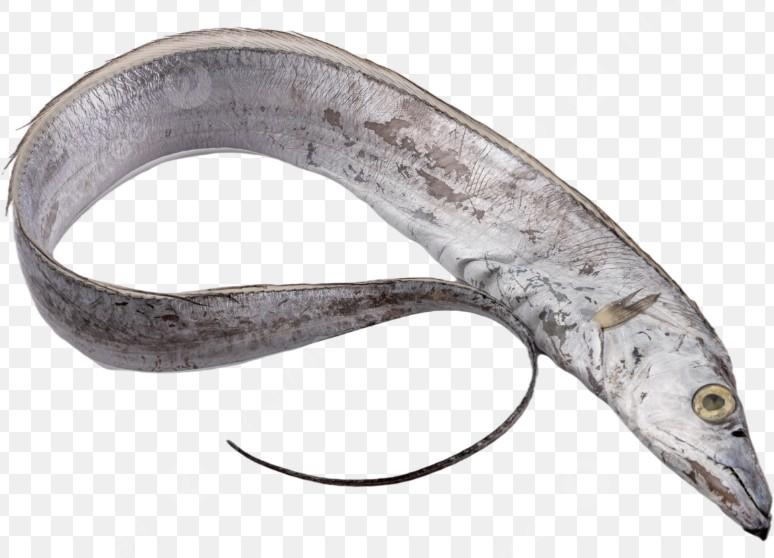fish: (11, 29, 773, 539), (56, 146, 471, 294)
